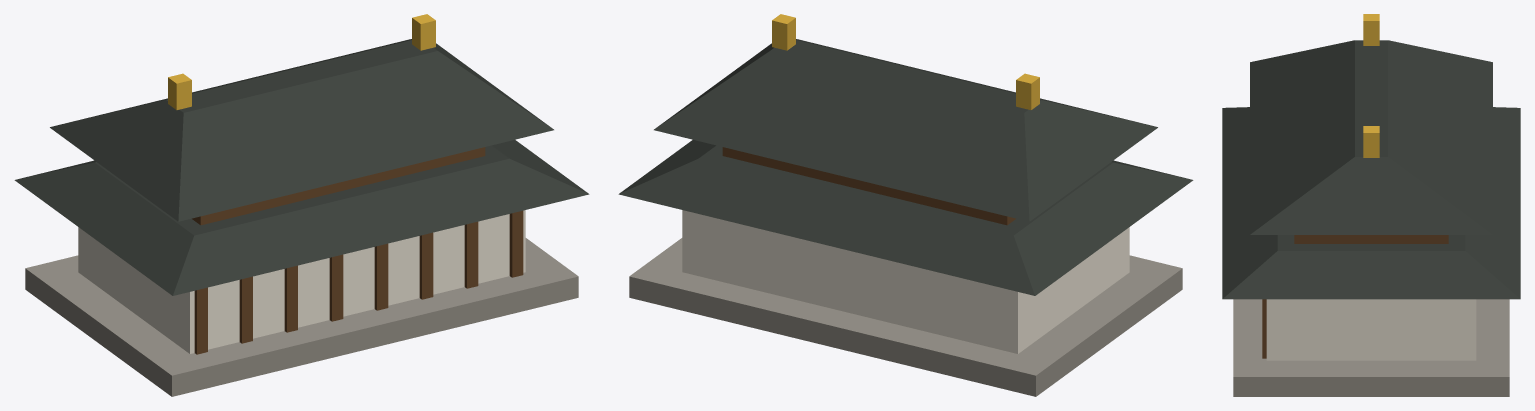
Rendered from hall.glb.
The picture shows the model from 3 angles, left to right: view 1: azimuth 30°, elevation 25°; view 2: azimuth 150°, elevation 25°; view 3: azimuth 270°, elevation 25°; orthographic projection. The views are drawn at different scales.
Size of the model in its own units: 0.82 by 0.46 by 0.54.
